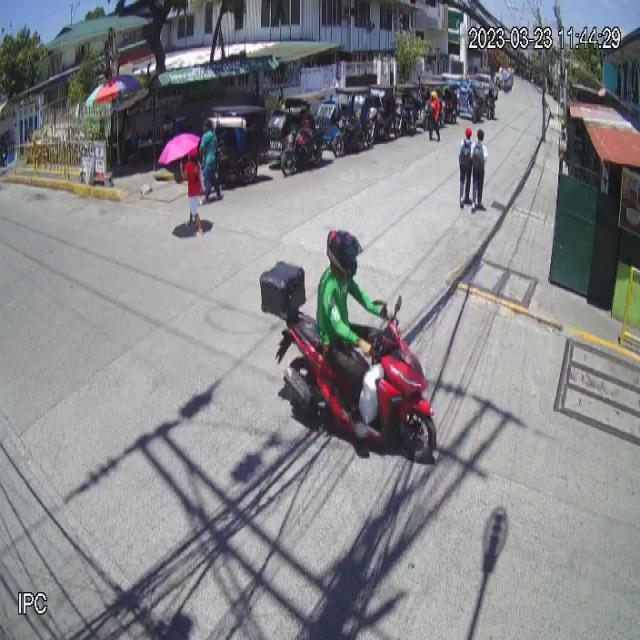Motorcycle: (258, 261, 439, 469)
